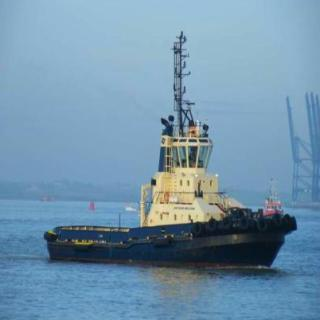Tug Boat: (45, 90, 297, 267)
